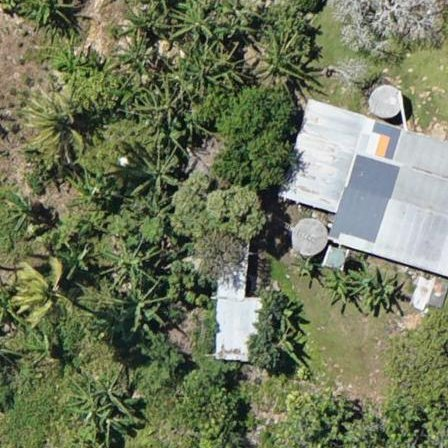palm_tree: (10, 255, 85, 335)
